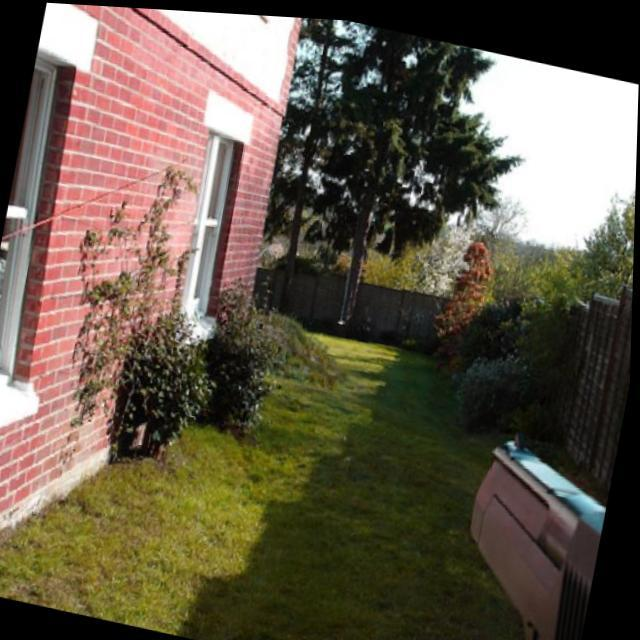weapon: (441, 415, 620, 640)
